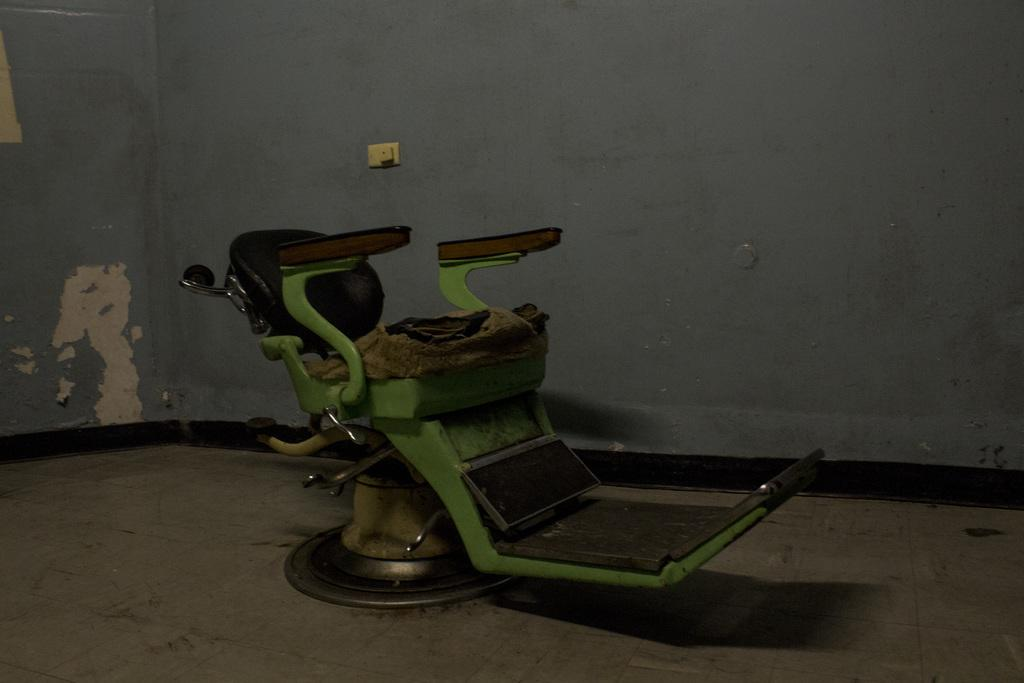Chair: (174, 229, 826, 611)
